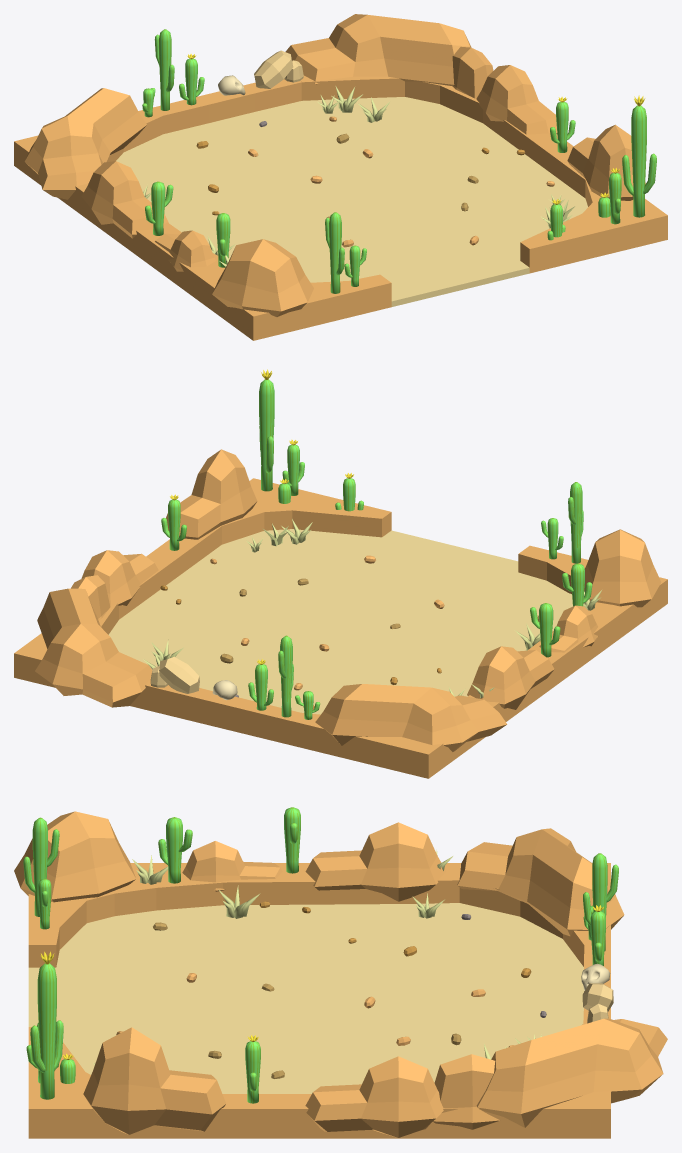
File: desert level set - 1 Way (3).fbx
3 views of the same model, one above another, from view 1: azimuth 30°, elevation 25°; view 2: azimuth 150°, elevation 25°; view 3: azimuth 270°, elevation 25° (orthographic). The views are drawn at different scales.
Visible parts, largest first — view 1: land_platform_001, Cube_008, Cube_004, Cube_005, Cube_001, Cube_000, Cube_009, CACTUS_009, Cube_002, Cube_006, Cube_007, CACTUS_008 (+8 smaller); view 2: land_platform_001, Cube_004, Cube_008, Cube_009, Cube_005, Cube_001, Cube_000, CACTUS_009, Cube_002, Cube_007, CACTUS_002, CACTUS_008 (+6 smaller); view 3: land_platform_001, Cube_008, Cube_009, Cube_004, Cube_000, Cube_001, Cube_005, Cube_006, CACTUS_009, Cube_002, CACTUS_002, CACTUS_008 (+8 smaller).
Boxes of the visible parts, box(x1,y1,x2,y2) form: land_platform_001: box(14, 75, 667, 340); Cube_008: box(285, 14, 471, 85); Cube_004: box(24, 88, 146, 199); Cube_005: box(212, 239, 313, 316); Cube_001: box(81, 161, 168, 238); Cube_000: box(476, 65, 557, 134); Cube_009: box(567, 124, 645, 200); CACTUS_009: box(622, 95, 656, 217); Cube_002: box(155, 230, 215, 271); Cube_006: box(452, 46, 493, 98); Cube_007: box(254, 50, 303, 88); CACTUS_008: box(154, 29, 174, 110); land_platform_001: box(14, 478, 667, 778); Cube_004: box(315, 684, 507, 751); Cube_008: box(35, 588, 152, 707); Cube_009: box(166, 449, 257, 539); Cube_005: box(584, 529, 661, 607); Cube_001: box(467, 646, 554, 709); Cube_000: box(81, 550, 158, 606); CACTUS_009: box(259, 369, 274, 491); Cube_002: box(539, 605, 598, 652); Cube_007: box(150, 657, 199, 693); CACTUS_002: box(568, 482, 583, 563); CACTUS_008: box(278, 635, 293, 717); land_platform_001: box(28, 863, 610, 1138); Cube_008: box(476, 1018, 667, 1127); Cube_009: box(83, 1027, 226, 1134); Cube_004: box(457, 828, 624, 936); Cube_000: box(305, 1056, 443, 1137); Cube_001: box(305, 822, 446, 901); Cube_005: box(14, 811, 135, 902); Cube_006: box(432, 1054, 500, 1129); CACTUS_009: box(30, 951, 63, 1099); Cube_002: box(182, 841, 282, 891); CACTUS_002: box(23, 817, 59, 916); CACTUS_008: box(583, 853, 618, 951).
Size of the model in its own units: 16.79 by 5.03 by 17.05.
